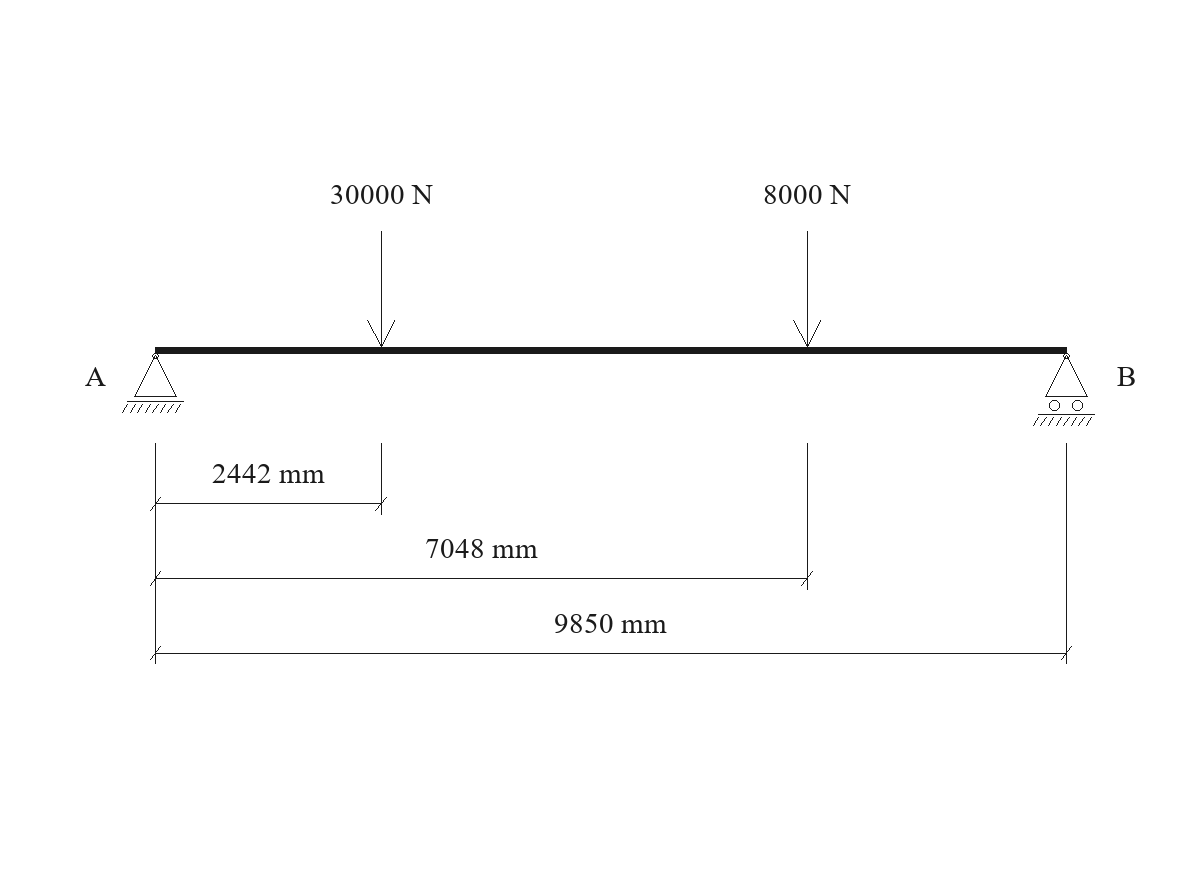pin_support: (122, 353, 184, 413)
point_load: (367, 231, 395, 347), (793, 231, 821, 347)
roller_support: (1033, 353, 1095, 426)
